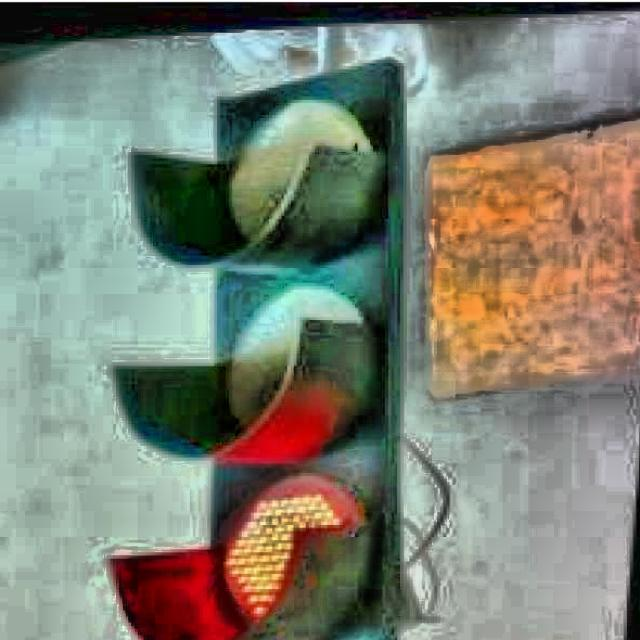red: (157, 69, 408, 640)
